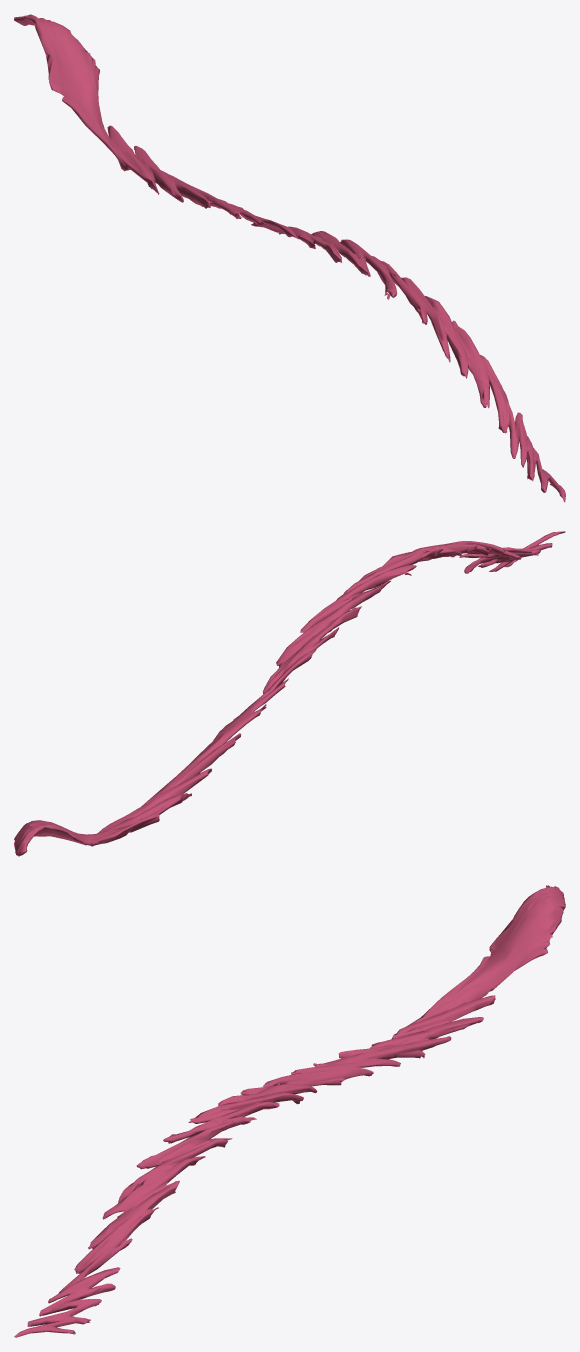
3 views of the same model, one above another, from view 1: azimuth 30°, elevation 25°; view 2: azimuth 150°, elevation 25°; view 3: azimuth 330°, elevation 25° (orthographic). The views are drawn at different scales.
Parts seen in each view (by area): view 1: 左侧回旋肌; view 2: 左侧回旋肌; view 3: 左侧回旋肌.
Part boxes in pixels (x1=…): 左侧回旋肌: x1=14, y1=14, x2=565, y2=502; 左侧回旋肌: x1=14, y1=531, x2=565, y2=856; 左侧回旋肌: x1=14, y1=885, x2=565, y2=1337.
Bounding box in the file's own units: 0.0562 × 0.098 × 0.9362.
